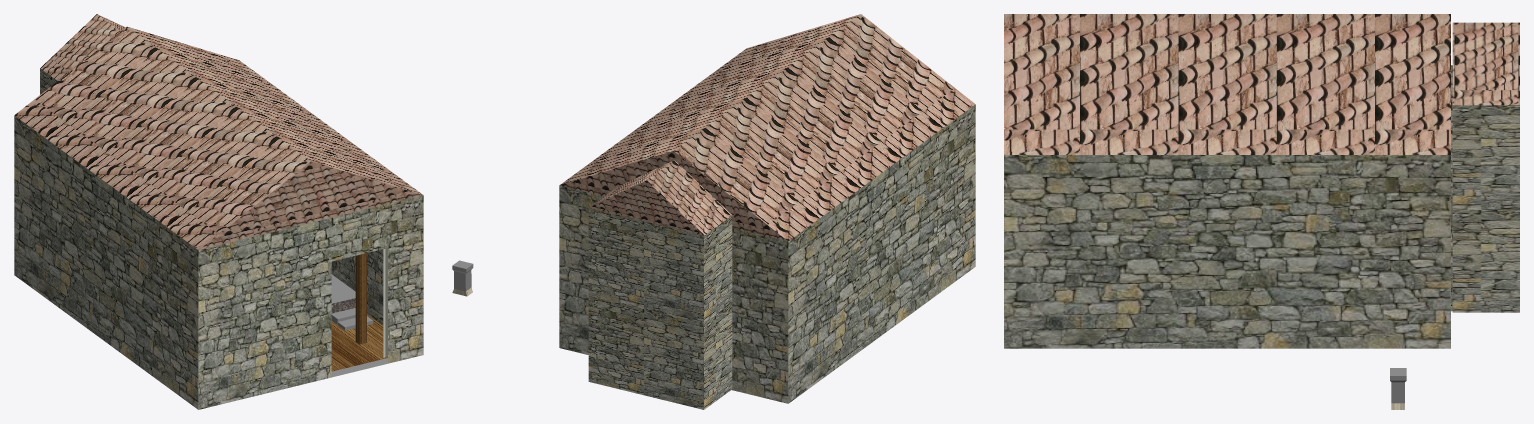
The model's file is mithraeumMoreRealScale 1.FBX.
3 renders of one model, left to right at view 1: azimuth 30°, elevation 25°; view 2: azimuth 150°, elevation 25°; view 3: azimuth 270°, elevation 25°, orthographic. The views are drawn at different scales.
Parts seen in each view (by area): view 1: Plane001, Mithraeum In, Plane002, Pillar Right Nave, Right Bench; view 2: Plane001, Plane002, Outside Altar; view 3: Plane001, Plane002, Outside Altar, Mithraeum In.
Part boxes in pixels (box(x1,y1,x2,y2)): Plane001: box(14, 26, 423, 409); Mithraeum In: box(331, 248, 387, 371); Plane002: box(40, 14, 125, 94); Pillar Right Nave: box(355, 253, 366, 344); Right Bench: box(331, 274, 355, 313); Plane001: box(559, 14, 975, 403); Plane002: box(588, 160, 732, 409); Outside Altar: box(452, 260, 473, 296); Plane001: box(1004, 14, 1450, 348); Plane002: box(1452, 22, 1519, 312); Outside Altar: box(1390, 368, 1406, 409); Mithraeum In: box(1451, 65, 1452, 311).
Size of the model in its own units: 411 by 252 by 433.
